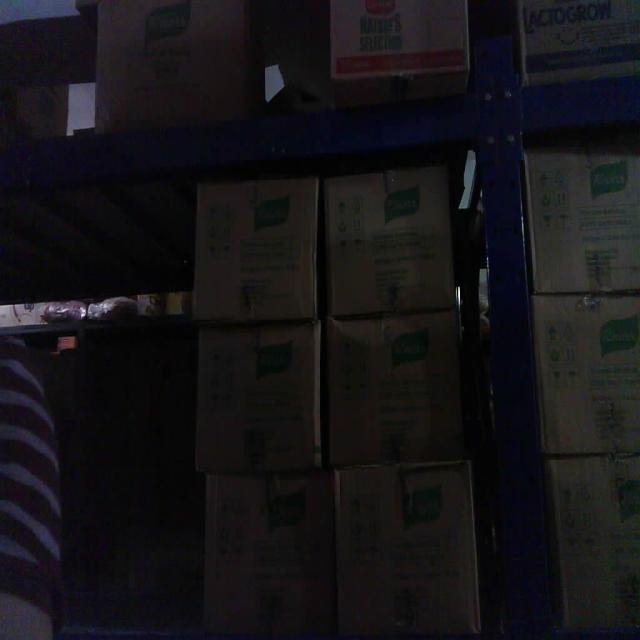box: (334, 464, 477, 640), (204, 468, 334, 640), (324, 318, 469, 464), (323, 168, 460, 314), (190, 174, 322, 324), (195, 320, 323, 471), (522, 148, 640, 298), (533, 292, 638, 457), (98, 2, 248, 116), (548, 454, 638, 640), (330, 0, 472, 84)
